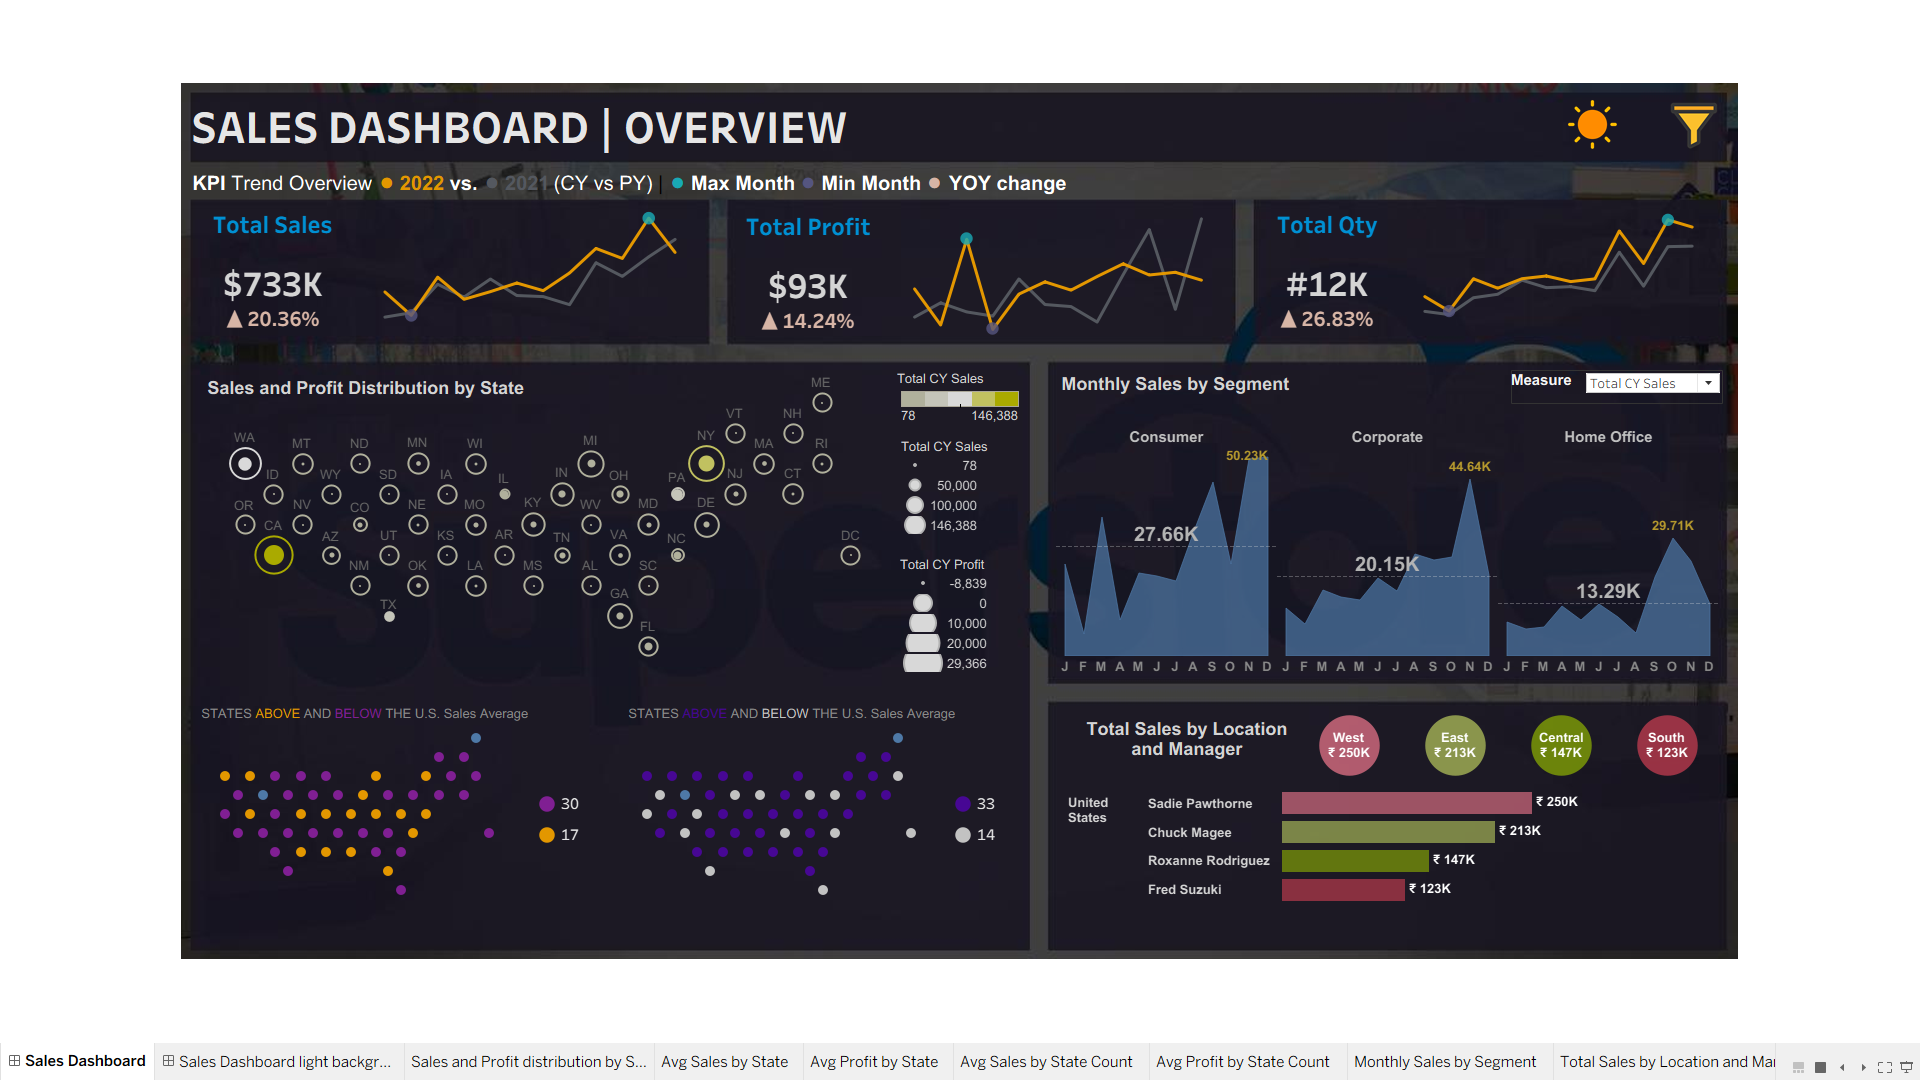

This screenshot's page, from the dashboard's own definition file:
{"tool":"tableau","page":{"name":"Sales Dashboard","canvas":[1600,900],"ordinal":0},"visuals":[{"type":"image","param":"C:/Users/hp/Downloads/Sales Dashboard Background.pptx.jpg","box":[8,8,1584,884]},{"type":"text","box":[28,21,671,66]},{"type":"dashboard-object","box":[1503,26,61,57]},{"type":"dashboard-object","box":[1350,27,164,52]},{"type":"text","box":[29,94,952,32]},{"type":"filter","title":"Sales and Profit distribution by State","param":"[federated.1yn3f3d0lm1f8f15x1b6g1p35ipu].[none:Category:nk]","box":[1391,129,169,52]},{"type":"worksheet","title":"Sales KPI","mark":"Automatic","box":[33,132,161,136]},{"type":"worksheet","title":"Sales Sparkline","mark":"Automatic","rows":["Calculation_0110263602360329"],"cols":["Order Date"],"box":[194,132,351,136]},{"type":"worksheet","title":"Qty KPI","mark":"Automatic","box":[1099,134,137,132]},{"type":"worksheet","title":"Qty Sparkline","mark":"Automatic","rows":["min max profit (copy)_0110263610130443"],"cols":["Order Date"],"box":[1236,134,324,132]},{"type":"worksheet","title":"Profit KPI","mark":"Automatic","box":[573,136,151,132]},{"type":"worksheet","title":"Profit Sparkline","mark":"Automatic","rows":["min max month (copy)_0110263608123402"],"cols":["Order Date"],"box":[724,136,347,132]},{"type":"filter","title":"Sales and Profit distribution by State","param":"[federated.1yn3f3d0lm1f8f15x1b6g1p35ipu].[none:Region:nk]","box":[1391,181,169,51]},{"type":"filter","title":"Sales and Profit distribution by State","param":"[federated.1yn3f3d0lm1f8f15x1b6g1p35ipu].[none:Ship Mode:nk]","box":[1391,232,169,51]},{"type":"text","box":[898,298,235,30]},{"type":"parameter","param":"[Parameters].[Parameter 0254299769466880]","box":[1351,299,212,34]},{"type":"legend","title":"Sales and Profit distribution by State","param":"[federated.1yn3f3d0lm1f8f15x1b6g1p35ipu].[sum:Calculation_0400533620371456:qk]","box":[737,300,126,77]},{"type":"worksheet","title":"Sales and Profit distribution by State","mark":"Circle","rows":["Row"],"cols":["Column","Column"],"box":[39,301,692,305]},{"type":"text","box":[44,302,391,30]},{"type":"worksheet","title":"Monthly Sales by Segment","mark":"Area","rows":["Calculation_0254299970134017"],"cols":["Segment","Order Date"],"box":[896,356,663,249]},{"type":"legend","title":"Sales and Profit distribution by State","param":"[federated.1yn3f3d0lm1f8f15x1b6g1p35ipu].[sum:Calculation_0400533620371456:qk]","box":[741,368,123,106]},{"type":"legend","title":"Sales and Profit distribution by State","param":"[federated.1yn3f3d0lm1f8f15x1b6g1p35ipu].[sum:Total CY Sales (copy)_045798345020","box":[740,486,122,127]},{"type":"text","box":[38,628,334,30]},{"type":"text","box":[465,628,334,30]},{"type":"worksheet","title":"Region wise Sales","mark":"Circle","cols":["Region"],"box":[1136,636,424,77]},{"type":"text","box":[895,639,264,59]},{"type":"worksheet","title":"Avg Sales by State","mark":"Circle","rows":["Row"],"cols":["Column"],"box":[47,648,300,190]},{"type":"worksheet","title":"Avg Profit by State","mark":"Circle","rows":["Row"],"cols":["Column"],"box":[469,648,300,190]},{"type":"worksheet","title":"Avg Sales by State Count","mark":"Circle","rows":["Calculation_0110263659098126"],"box":[352,717,70,62]},{"type":"worksheet","title":"Avg Profit by State Count","mark":"Circle","rows":["Sales Avg Color (copy)_0110263708217361"],"box":[768,717,70,62]},{"type":"worksheet","title":"Total Sales by Location and Manager","mark":"Automatic","rows":["Country/Region","Regional Manager"],"cols":["Calculation_0400533620371456"],"box":[902,718,533,115]}]}

Visuals, with their boxes on the page's 1600x900 design canvas (x1, y1, x2, y2). These are canvas units, not pixel positions in the 1920x1080 screenshot, which may show the page scaled, cropped or inside an application window:
image: [8,8,1592,892]
text: [28,21,699,87]
dashboard-object: [1503,26,1564,83]
dashboard-object: [1350,27,1514,79]
text: [29,94,981,126]
"Sales and Profit distribution by State" filter: [1391,129,1560,181]
"Sales KPI" worksheet: [33,132,194,268]
"Sales Sparkline" worksheet: [194,132,545,268]
"Qty KPI" worksheet: [1099,134,1236,266]
"Qty Sparkline" worksheet: [1236,134,1560,266]
"Profit KPI" worksheet: [573,136,724,268]
"Profit Sparkline" worksheet: [724,136,1071,268]
"Sales and Profit distribution by State" filter: [1391,181,1560,232]
"Sales and Profit distribution by State" filter: [1391,232,1560,283]
text: [898,298,1133,328]
parameter: [1351,299,1563,333]
"Sales and Profit distribution by State" legend: [737,300,863,377]
"Sales and Profit distribution by State" worksheet (Circle marks): [39,301,731,606]
text: [44,302,435,332]
"Monthly Sales by Segment" worksheet (Area marks): [896,356,1559,605]
"Sales and Profit distribution by State" legend: [741,368,864,474]
"Sales and Profit distribution by State" legend: [740,486,862,613]
text: [38,628,372,658]
text: [465,628,799,658]
"Region wise Sales" worksheet (Circle marks): [1136,636,1560,713]
text: [895,639,1159,698]
"Avg Sales by State" worksheet (Circle marks): [47,648,347,838]
"Avg Profit by State" worksheet (Circle marks): [469,648,769,838]
"Avg Sales by State Count" worksheet (Circle marks): [352,717,422,779]
"Avg Profit by State Count" worksheet (Circle marks): [768,717,838,779]
"Total Sales by Location and Manager" worksheet: [902,718,1435,833]
